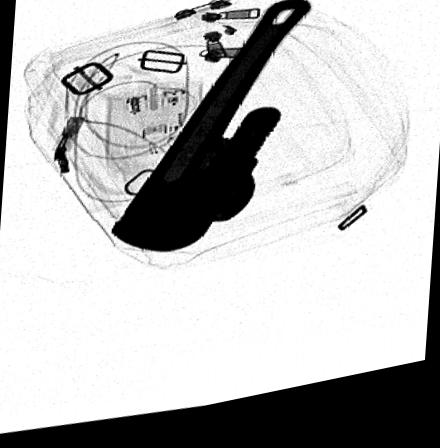Wrench: (108, 8, 315, 258)
